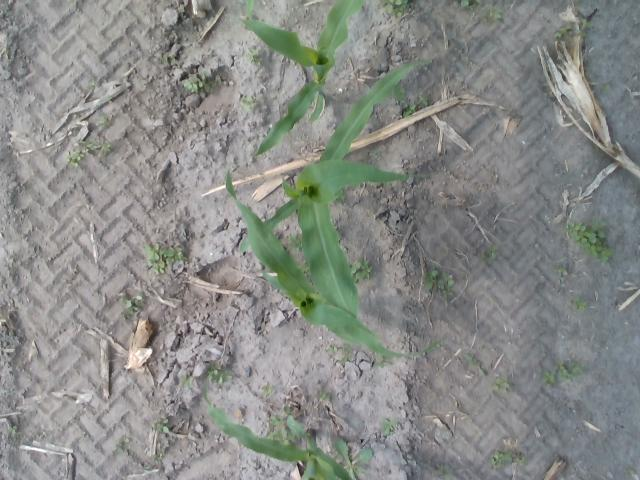Maize: (238, 59, 445, 359), (224, 170, 394, 345), (238, 1, 366, 155), (204, 390, 352, 480), (244, 1, 255, 16)
Weeds: (569, 220, 611, 260), (332, 438, 374, 466), (183, 72, 216, 94), (146, 243, 166, 274), (208, 363, 231, 387), (556, 361, 585, 378), (121, 292, 142, 314), (381, 0, 407, 16), (242, 93, 262, 111), (268, 418, 284, 438), (66, 151, 84, 167), (555, 24, 572, 40), (96, 138, 111, 156), (425, 270, 438, 290), (494, 376, 510, 392), (76, 139, 96, 151), (166, 247, 183, 261), (350, 262, 364, 279), (483, 245, 497, 261), (153, 419, 170, 432), (489, 5, 501, 22), (342, 344, 352, 364), (578, 19, 589, 37), (542, 370, 553, 388), (384, 418, 396, 434), (180, 376, 196, 388), (247, 46, 258, 63), (316, 392, 331, 404), (493, 451, 504, 467), (440, 275, 453, 288), (461, 0, 481, 8), (117, 438, 130, 450), (574, 299, 586, 312), (418, 92, 429, 106), (404, 103, 415, 116), (512, 454, 526, 464), (397, 86, 406, 100), (360, 262, 372, 272), (554, 267, 568, 275), (98, 116, 109, 126), (162, 55, 175, 63), (464, 352, 474, 362), (476, 366, 486, 376), (327, 344, 338, 352), (437, 465, 445, 475), (442, 290, 453, 297), (262, 386, 270, 394), (154, 453, 163, 460), (88, 79, 94, 89), (255, 57, 261, 66)
